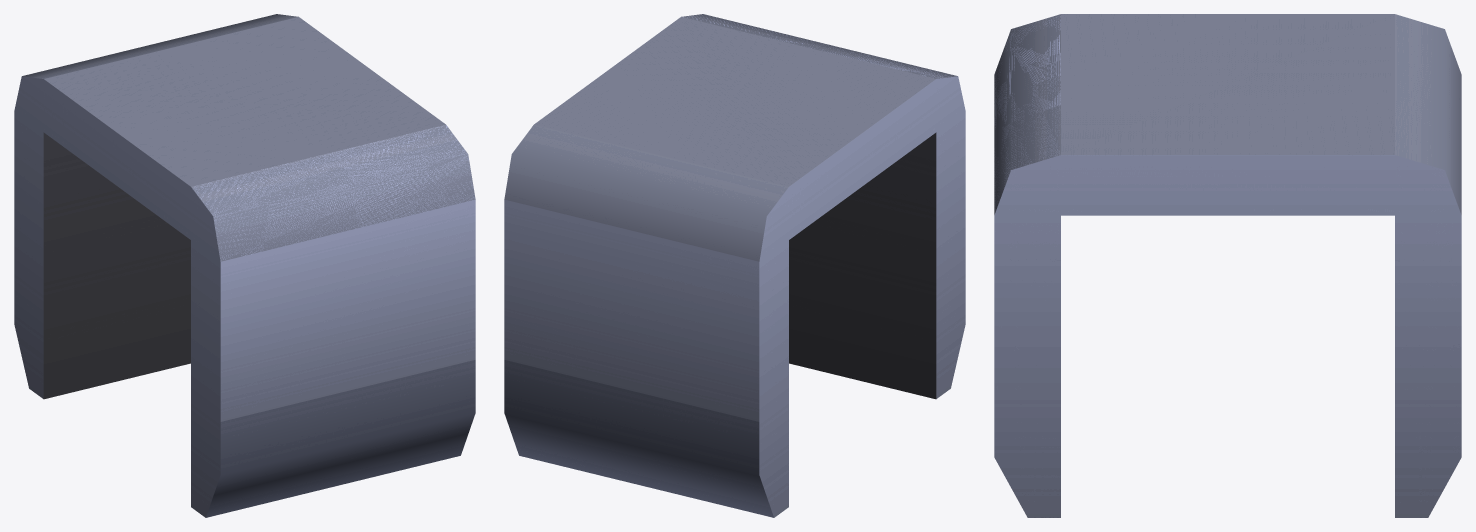
File: cover.glb
3 views of the same model, side by side, from view 1: azimuth 30°, elevation 25°; view 2: azimuth 150°, elevation 25°; view 3: azimuth 270°, elevation 25° (orthographic). The views are drawn at different scales.
Parts seen in each view (by area): view 1: cover; view 2: cover; view 3: cover.
Part boxes in pixels (x1,y1,x2,y2): cover: (14,14,475,517); cover: (504,14,965,517); cover: (994,14,1461,517).
Bounding box in the file's own units: 1 × 1.2 × 1.4.
1 material, 1 textured.
